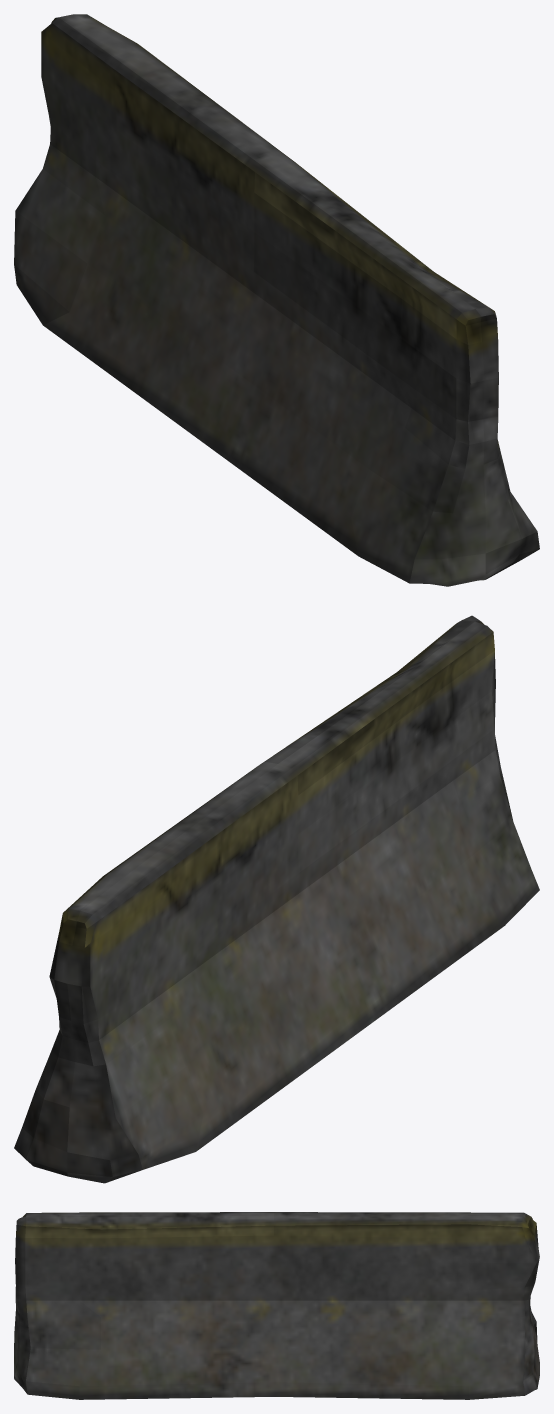
File: roadbarrier02.glb
The picture shows the model from 3 angles, top to bottom: view 1: azimuth 30°, elevation 25°; view 2: azimuth 150°, elevation 25°; view 3: azimuth 270°, elevation 25°; orthographic projection. The views are drawn at different scales.
Visible parts, largest first — view 1: Object_2; view 2: Object_2; view 3: Object_2.
Boxes of the visible parts, x1,y1,x2,y2 form: Object_2: (14, 14, 539, 586); Object_2: (14, 615, 539, 1183); Object_2: (14, 1212, 539, 1399).
Size of the model in its own units: 2.81 by 4.81 by 13.98.
1 material, 1 textured.
